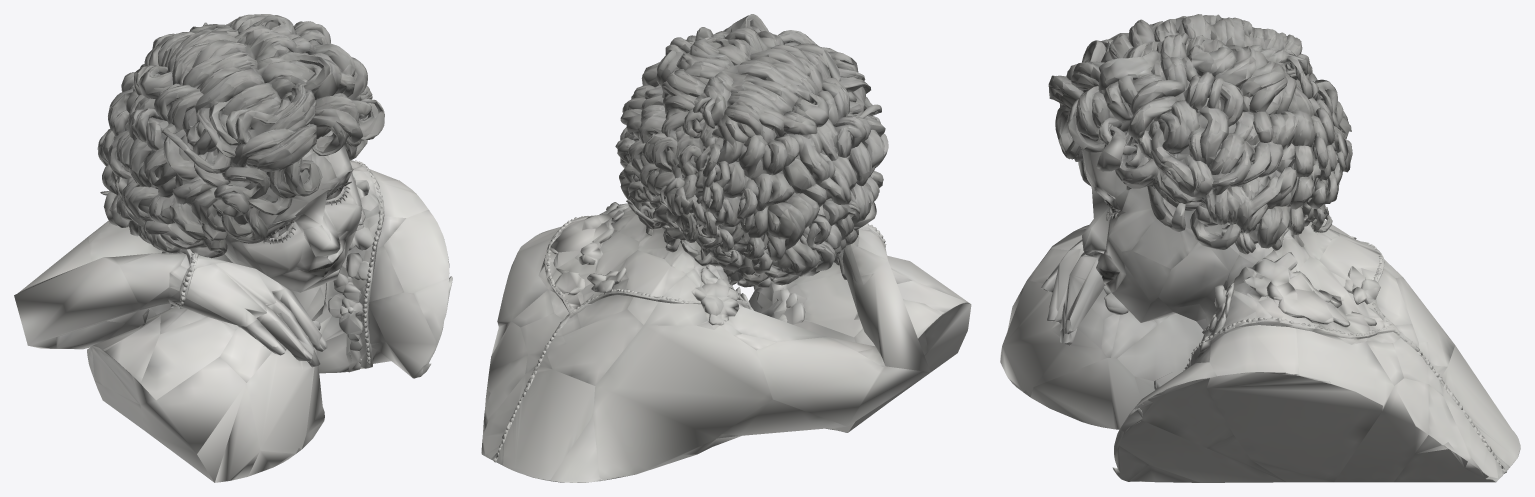
Rendered from clara-small.glb.
3 renders of one model, left to right at view 1: azimuth 30°, elevation 25°; view 2: azimuth 150°, elevation 25°; view 3: azimuth 270°, elevation 25°, orthographic. The views are drawn at different scales.
Parts seen in each view (by area): view 1: Object_01; view 2: Object_01; view 3: Object_01.
Boxes of the visible parts, x1,y1,x2,y2 form: Object_01: [14, 14, 452, 482]; Object_01: [481, 14, 971, 482]; Object_01: [1000, 14, 1520, 482].
Size of the model in its own units: 1.78 by 1.53 by 1.88.
Materials: 1 (1 with a texture image).
